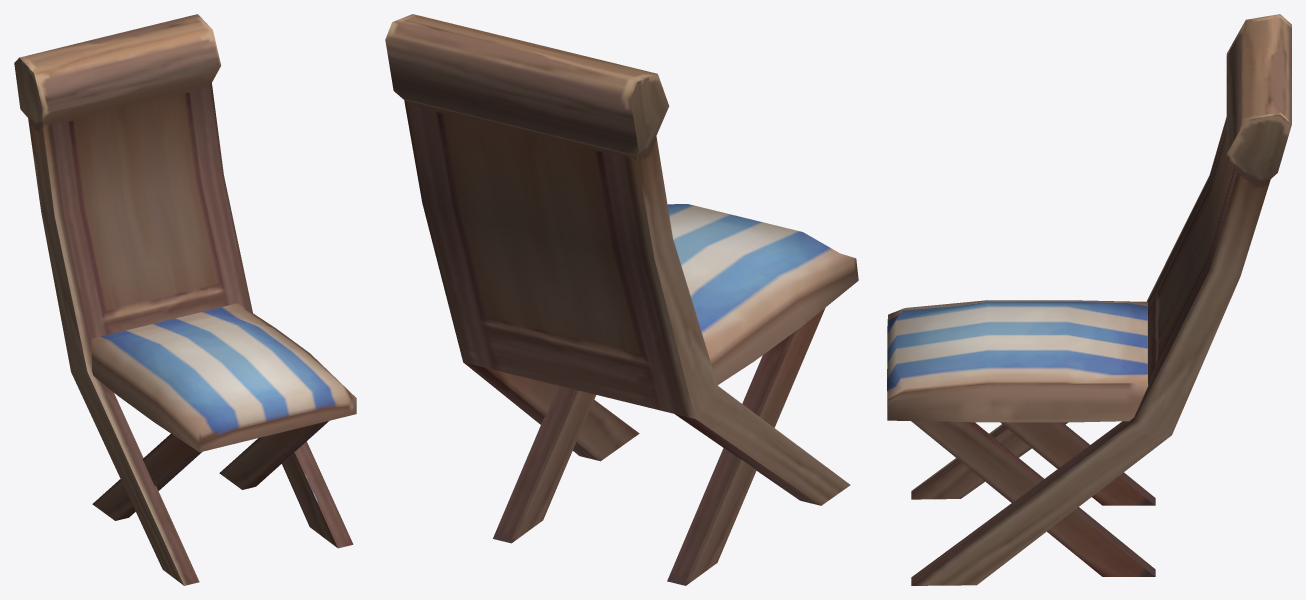
The model's file is map_1002_wj_24.FBX.
The picture shows the model from 3 angles, left to right: view 1: azimuth 30°, elevation 25°; view 2: azimuth 150°, elevation 25°; view 3: azimuth 270°, elevation 25°; orthographic projection. The views are drawn at different scales.
Visible parts, largest first — view 1: map_1002_wj_24; view 2: map_1002_wj_24; view 3: map_1002_wj_24.
Boxes of the visible parts, bbox=[...] form: map_1002_wj_24: bbox=[14, 14, 356, 585]; map_1002_wj_24: bbox=[385, 14, 858, 585]; map_1002_wj_24: bbox=[887, 14, 1291, 585].
Size of the model in its own units: 0.7078 by 1.56 by 1.21.
